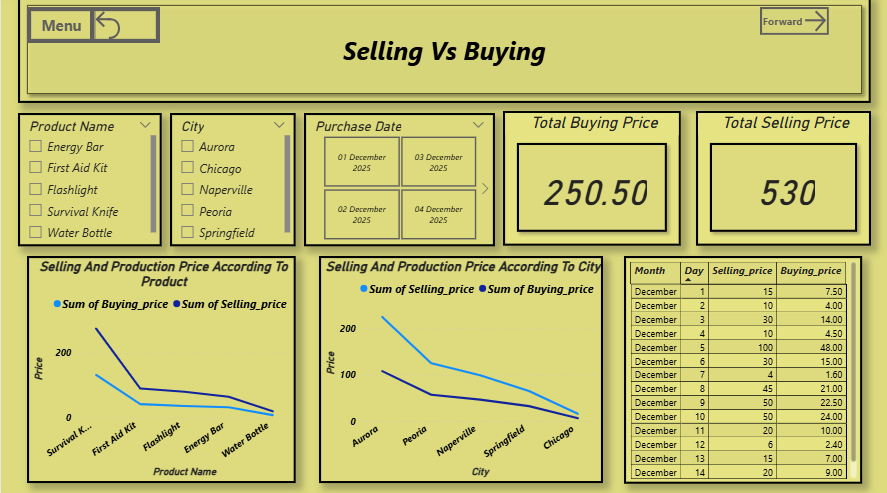

The dashboard page shown, as its layout file describes it:
{"tool":"powerbi","page":{"name":"Buying Vs Selling","canvas":[1280,720],"ordinal":3},"visuals":[{"type":"shape","box":[24.5,0,1228.3,154.1],"z":0},{"type":"lineChart","title":"Selling And Production Price According To Product ","fields":{"Y":["Sum(Apocolyse_sales.Buying_price)","Sum(Apocolyse_sales.Selling_price)"],"Category":["Apocolyse_sales.Product_name"]},"box":[37.4,374.4,387.4,326.9],"z":1000},{"type":"cardVisual","title":"Total Selling Price","fields":{"Data":["Sum(Apocolyse_sales.Selling_price)"]},"box":[1000.8,165.6,252,194.4],"z":2000},{"type":"cardVisual","title":"Total Buying Price","fields":{"Data":["Sum(Apocolyse_sales.Buying_price)"]},"box":[722.9,165.6,256.3,194.4],"z":3000},{"type":"lineChart","title":"Selling And Production Price According To City","fields":{"Y":["Sum(Apocolyse_sales.Selling_price)","Sum(Apocolyse_sales.Buying_price)"],"Category":["Apocolyse_sales.customer_city"]},"box":[457.9,374.4,409,326.9],"z":4000},{"type":"tableEx","fields":{"Values":["Apocolyse_sales.date_purchase.Variation.Date Hierarchy.Month","Apocolyse_sales.date_purchase.Variation.Date Hierarchy.Day","Sum(Apocolyse_sales.Selling_price)","Sum(Apocolyse_sales.Buying_price)"]},"box":[897.1,374.4,342.7,328.3],"z":5000},{"type":"slicer","fields":{"Values":["Apocolyse_sales.Product_name"]},"box":[24.5,168.5,207.4,191.5],"z":6000},{"type":"slicer","fields":{"Values":["Apocolyse_sales.customer_city"]},"box":[243.4,168.5,181.4,191.5],"z":7000},{"type":"slicer","fields":{"Values":["Apocolyse_sales.date_purchase"]},"box":[436.3,168.5,275,191.5],"z":8000},{"type":"actionButton","box":[37.4,15.8,99.4,51.8],"z":10000},{"type":"actionButton","box":[128.2,15.8,100.8,51.8],"z":11000},{"type":"actionButton","title":"Forward","box":[1093,15.8,99.4,40.3],"z":12000}]}

Visuals, with their boxes in screenshot pixels (x1, y1, x2, y2), scaled from the page's 1280x720 canvas onto the 887x493 screenshot:
shape: 17:0:868:106
"Selling And Production Price According To Product " lineChart: 26:256:294:480
"Total Selling Price" cardVisual: 694:113:868:246
"Total Buying Price" cardVisual: 501:113:679:246
"Selling And Production Price According To City" lineChart: 317:256:601:480
tableEx - Apocolyse_sales.date_purchase.Variation.Date Hierarchy.Month x Apocolyse_sales.date_purchase.Variation.Date Hierarchy.Day: 622:256:859:481
slicer - Apocolyse_sales.Product_name: 17:115:161:246
slicer - Apocolyse_sales.customer_city: 169:115:294:246
slicer - Apocolyse_sales.date_purchase: 302:115:493:246
actionButton: 26:11:95:46
actionButton: 89:11:159:46
"Forward" actionButton: 757:11:826:38
